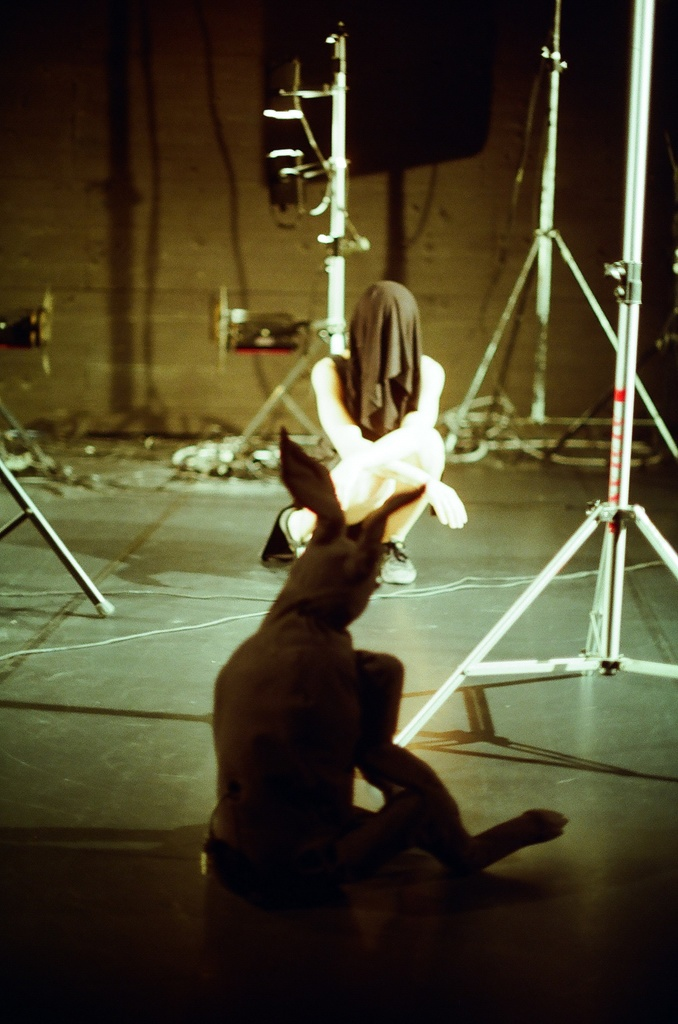Person: (260, 279, 468, 586)
